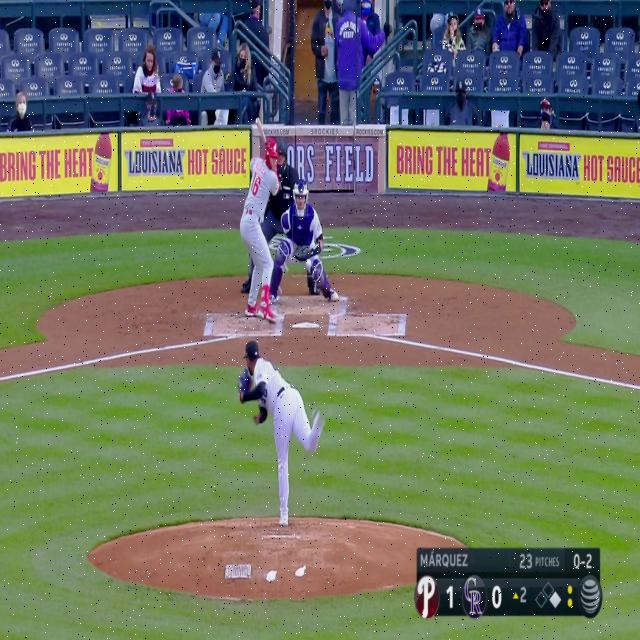baseball: (305, 257, 312, 268)
